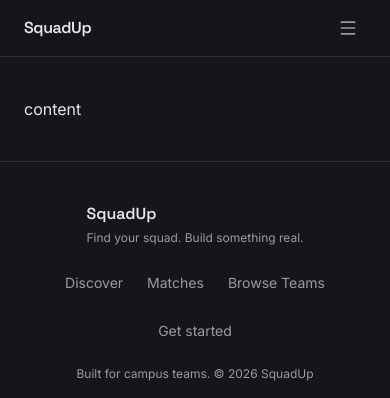
Test: layout mobile navigation › toggles the menu open and closed
This screenshot has width=390, height=398.
Click the button named "Open navigation menu": (348, 28) [330, 10, 366, 46]
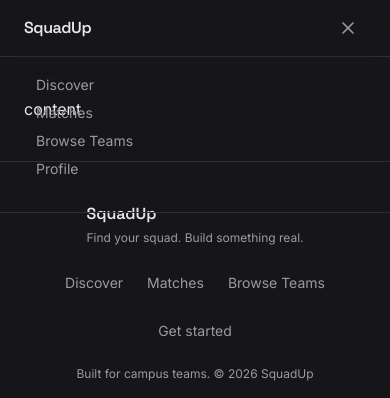
Expected: the navigation bar named "Mobile" is shown, [0, 56, 389, 213]
Click the button named "Close navigation menu": (348, 28) [330, 10, 366, 46]
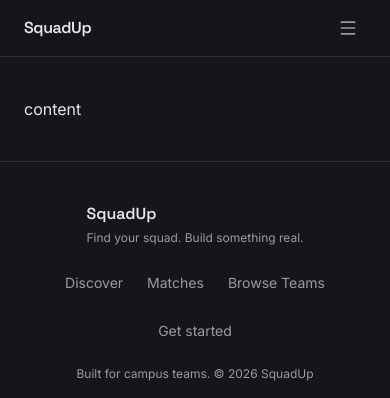
Expected: the navigation bar "Mobile" is gone
